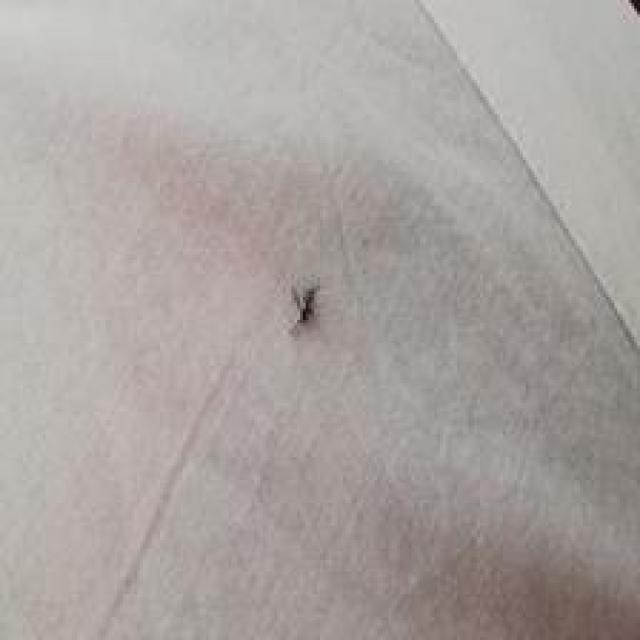Aedes albopictus: (290, 280, 321, 326)
